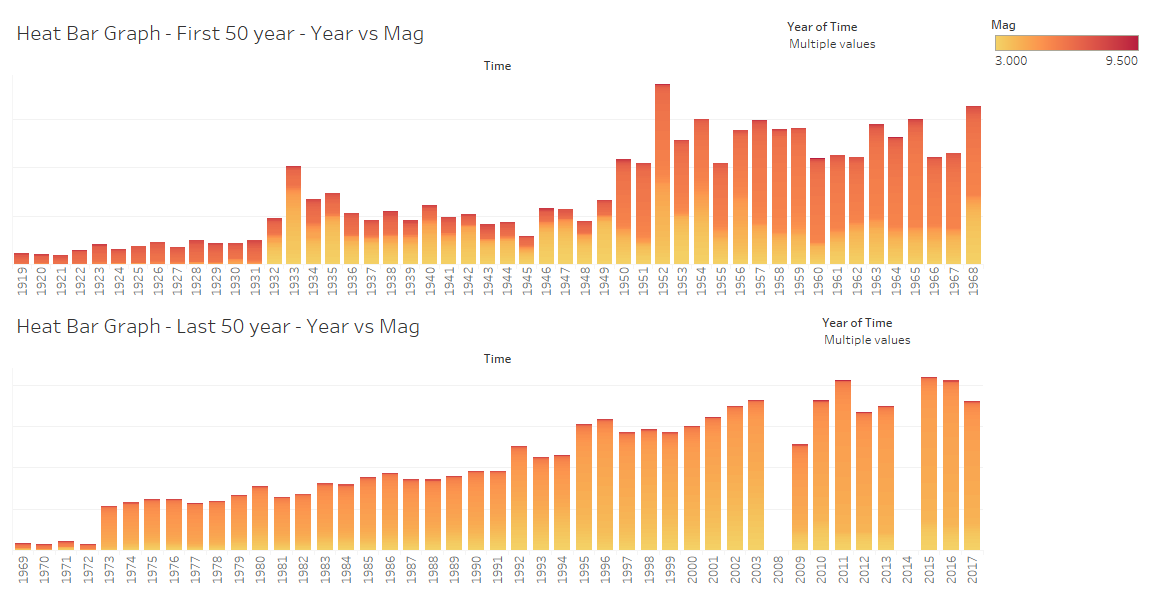

Layout of this report page (visuals, bound fields, positions):
{"tool":"tableau","page":{"name":"Heat Bar Graph - Year vs Mag / Avg mag per year","canvas":[1000,1000],"units":"permille","ordinal":2},"visuals":[{"type":"worksheet","title":"Heat Bar Graph - First 50 year - Year vs Mag","mark":"Bar","rows":["mag"],"cols":["time"],"box":[6.9,13.3,847.6,486.7]},{"type":"legend","title":"Heat Bar Graph - Last 50 year - Year vs Mag","param":"[federated.14g24vn1bp0nln18c534e06es7gj].[sum:mag:qk]","box":[854.5,13.3,138.5,108]},{"type":"filter","title":"Heat Bar Graph - First 50 year - Year vs Mag","param":"[federated.14g24vn1bp0nln18c534e06es7gj].[yr:time:ok]","box":[681.4,28.2,159.3,81.4]},{"type":"worksheet","title":"Heat Bar Graph - Last 50 year - Year vs Mag","mark":"Bar","rows":["mag"],"cols":["time"],"box":[6.9,500,847.6,486.7]},{"type":"filter","title":"Heat Bar Graph - Last 50 year - Year vs Mag","param":"[federated.14g24vn1bp0nln18c534e06es7gj].[yr:time:ok]","box":[711.7,519.9,138.5,74.8]}]}

Visuals, with their boxes on the dashboard's canvas, which has no fixed pixel size, in thousandths of its width and height (x1, y1, x2, y2). These are canvas units, not pixel positions in the 1155x602 screenshot, which may show the page scaled, cropped or inside an application window:
"Heat Bar Graph - First 50 year - Year vs Mag" worksheet (Bar marks): BBox(7, 13, 854, 500)
"Heat Bar Graph - Last 50 year - Year vs Mag" legend: BBox(854, 13, 993, 121)
"Heat Bar Graph - First 50 year - Year vs Mag" filter: BBox(681, 28, 841, 110)
"Heat Bar Graph - Last 50 year - Year vs Mag" worksheet (Bar marks): BBox(7, 500, 854, 987)
"Heat Bar Graph - Last 50 year - Year vs Mag" filter: BBox(712, 520, 850, 595)
